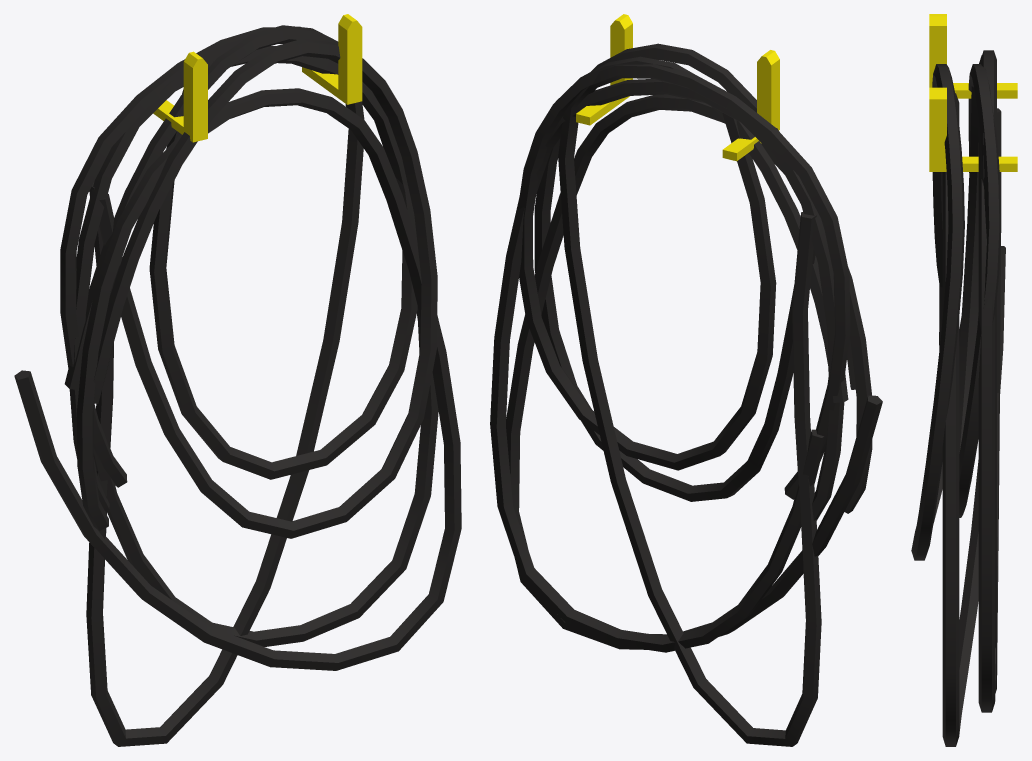
File: SM_cables_hanging.fbx
3 renders of one model, left to right at view 1: azimuth 30°, elevation 25°; view 2: azimuth 150°, elevation 25°; view 3: azimuth 270°, elevation 25°, orthographic. The views are drawn at different scales.
Visible parts, largest first — view 1: cables_hanging; view 2: cables_hanging; view 3: cables_hanging.
Boxes of the visible parts, box(x1,y1,x2,y2) form: cables_hanging: box(14, 14, 461, 746); cables_hanging: box(490, 14, 882, 746); cables_hanging: box(911, 14, 1017, 746).
Size of the model in its own units: 119 by 192 by 26.91.
